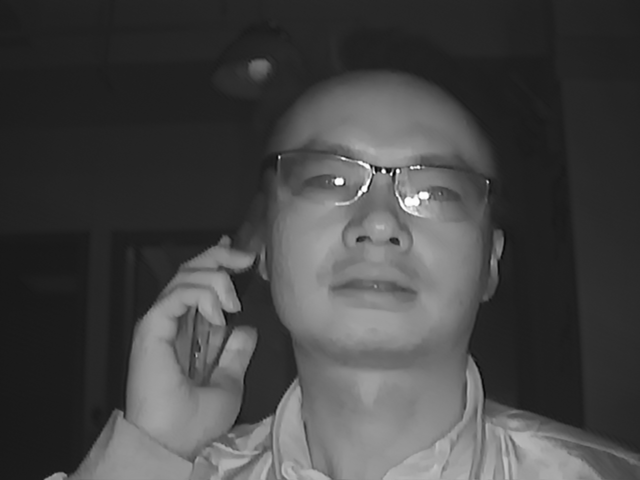hand: (121, 235, 262, 445)
